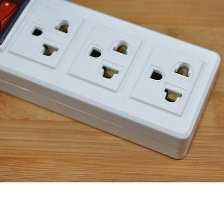three_eye_plug: (0, 0, 222, 163)
